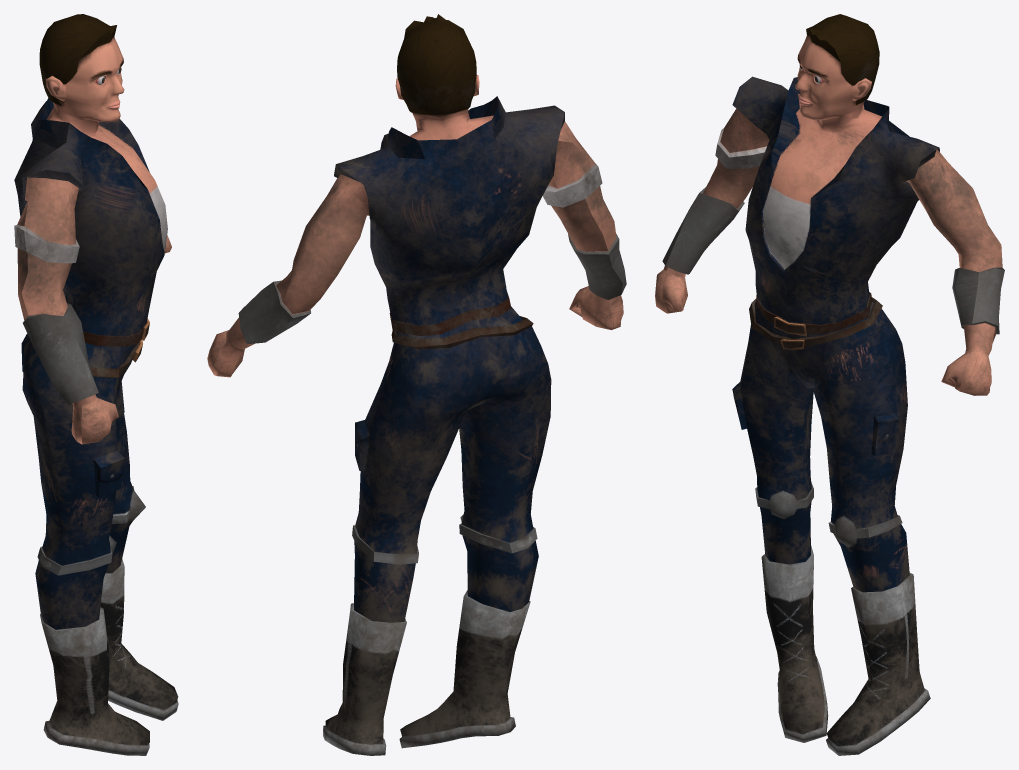
Rendered from Anim_ataque_f1_jugador.0035.obj.
3 renders of one model, left to right at view 1: azimuth 30°, elevation 25°; view 2: azimuth 150°, elevation 25°; view 3: azimuth 270°, elevation 25°, orthographic. The views are drawn at different scales.
Visible parts, largest first — view 1: polySurface1; view 2: polySurface1; view 3: polySurface1.
Part boxes in pixels (x1=…): polySurface1: x1=14, y1=14, x2=178, y2=755; polySurface1: x1=207, y1=14, x2=626, y2=755; polySurface1: x1=655, y1=14, x2=1004, y2=755.
Bounding box in the file's own units: 3.86 × 9.97 × 4.5.
